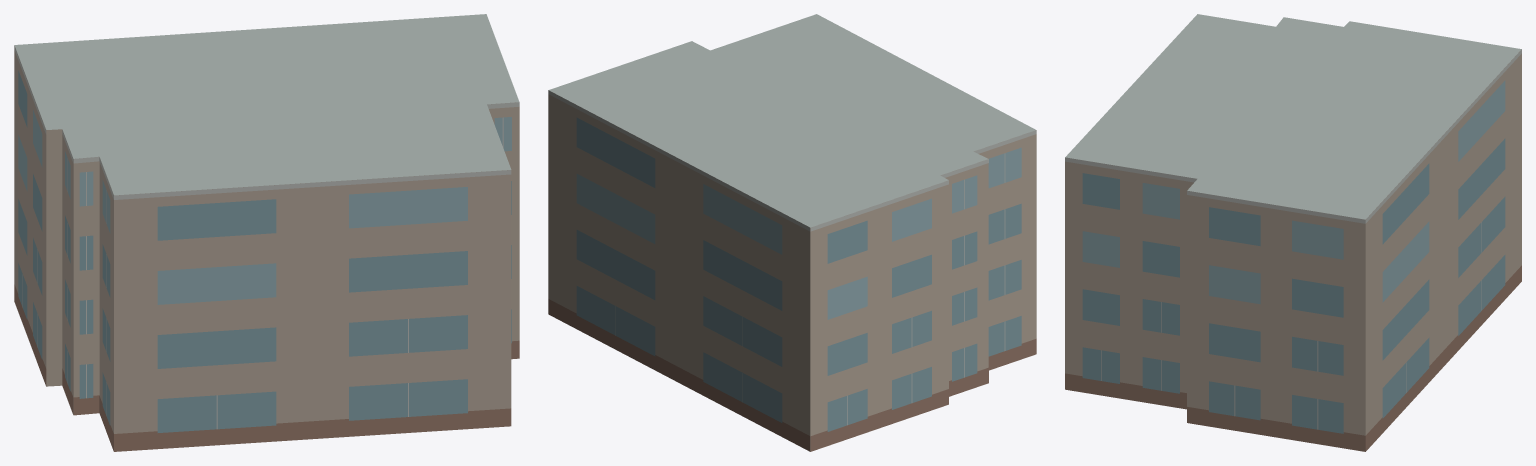
The model's file is survey-upis-32717338.glb.
3 views of the same model, side by side, from view 1: azimuth 30°, elevation 25°; view 2: azimuth 150°, elevation 25°; view 3: azimuth 270°, elevation 25° (orthographic). The views are drawn at different scales.
Visible parts, largest first — view 1: survey-upis-32717338.tmp; view 2: survey-upis-32717338.tmp; view 3: survey-upis-32717338.tmp.
Boxes of the visible parts, left/top/right/bottom form: survey-upis-32717338.tmp: left=14, top=14, right=519, bottom=451; survey-upis-32717338.tmp: left=548, top=14, right=1036, bottom=451; survey-upis-32717338.tmp: left=1065, top=14, right=1521, bottom=451.
Size of the model in its own units: 25.64 by 13.5 by 24.07.
